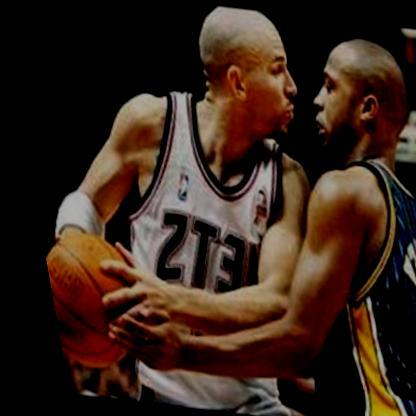basketball: (31, 222, 136, 373)
